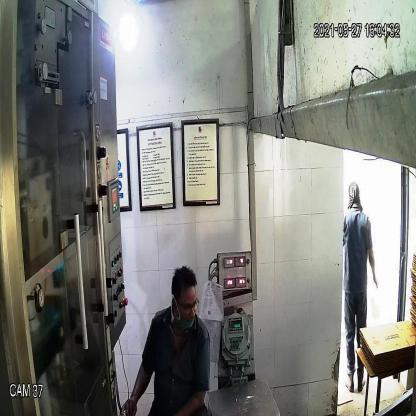goggles: (172, 294, 202, 317)
